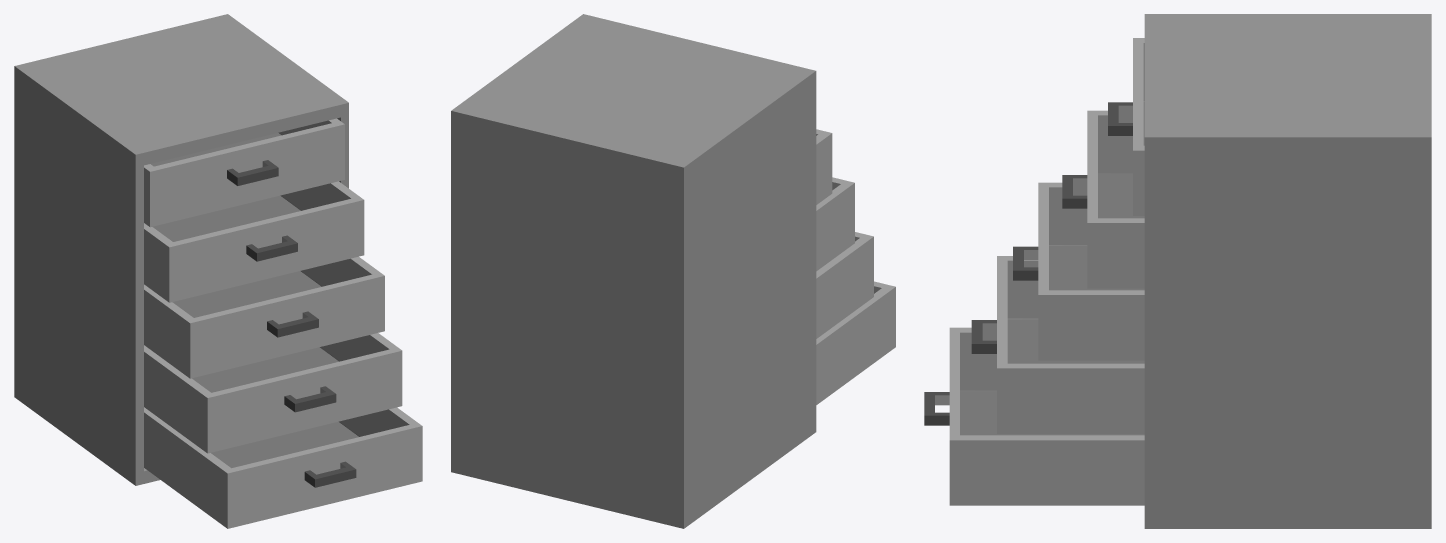
The model's file is Drawer_open.fbx.
3 views of the same model, side by side, from view 1: azimuth 30°, elevation 25°; view 2: azimuth 150°, elevation 25°; view 3: azimuth 270°, elevation 25° (orthographic). The views are drawn at different scales.
Visible parts, largest first — view 1: pCube13; view 2: pCube13; view 3: pCube13.
Boxes of the visible parts, left/top/right/bottom form: pCube13: left=14, top=14, right=422, bottom=528; pCube13: left=451, top=14, right=895, bottom=528; pCube13: left=924, top=14, right=1431, bottom=528.
Size of the model in its own units: 22.21 by 32.94 by 38.65.
